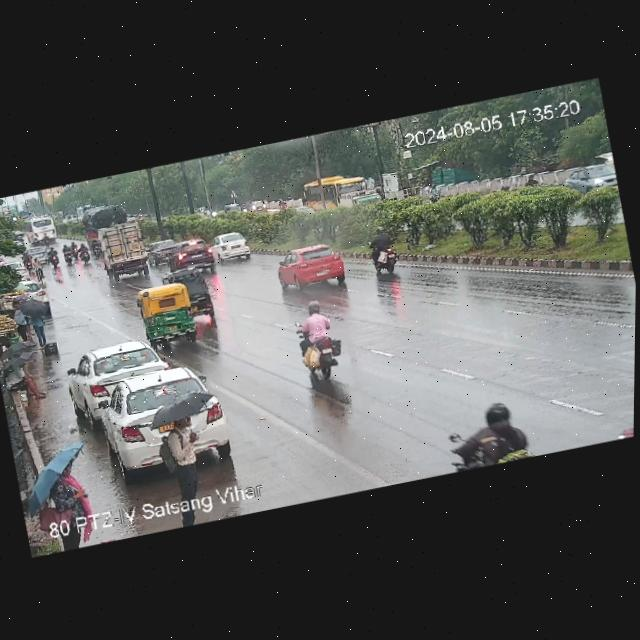bus: (300, 168, 374, 213), (21, 211, 61, 246)
car: (89, 361, 238, 485), (61, 335, 183, 429), (269, 235, 360, 303), (132, 274, 200, 352), (157, 256, 216, 333), (162, 231, 217, 280), (559, 157, 619, 201), (210, 220, 259, 268), (0, 274, 49, 319), (145, 234, 178, 268), (3, 256, 33, 284), (27, 243, 49, 266), (222, 197, 242, 215)
motorcycle: (422, 379, 546, 476), (283, 289, 367, 395), (361, 217, 418, 287), (30, 254, 53, 287), (75, 237, 98, 268), (423, 177, 447, 203), (58, 241, 77, 271), (247, 196, 270, 214), (68, 236, 83, 263), (46, 244, 60, 270), (523, 172, 544, 189), (38, 230, 54, 248), (275, 197, 290, 210)
person: (147, 387, 239, 499), (20, 435, 104, 524), (0, 347, 58, 409), (0, 339, 57, 400), (21, 293, 67, 356), (9, 298, 38, 339)
truck: (93, 217, 156, 286), (79, 198, 143, 259), (338, 182, 386, 210)
